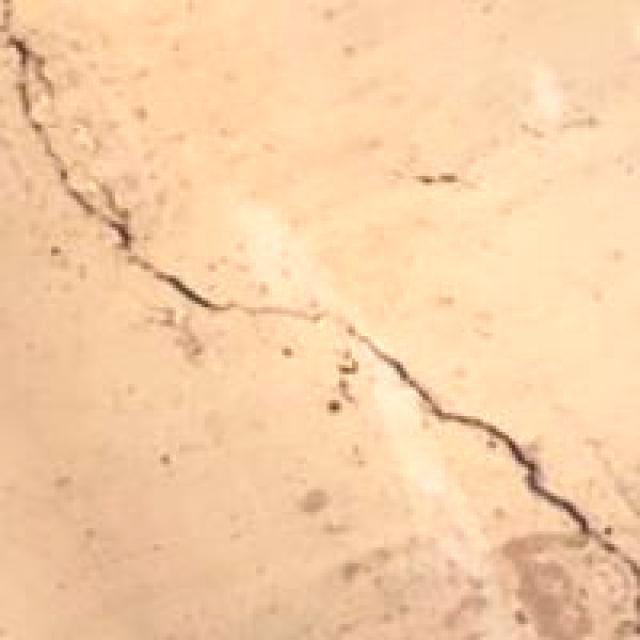crack: (0, 4, 640, 590)
